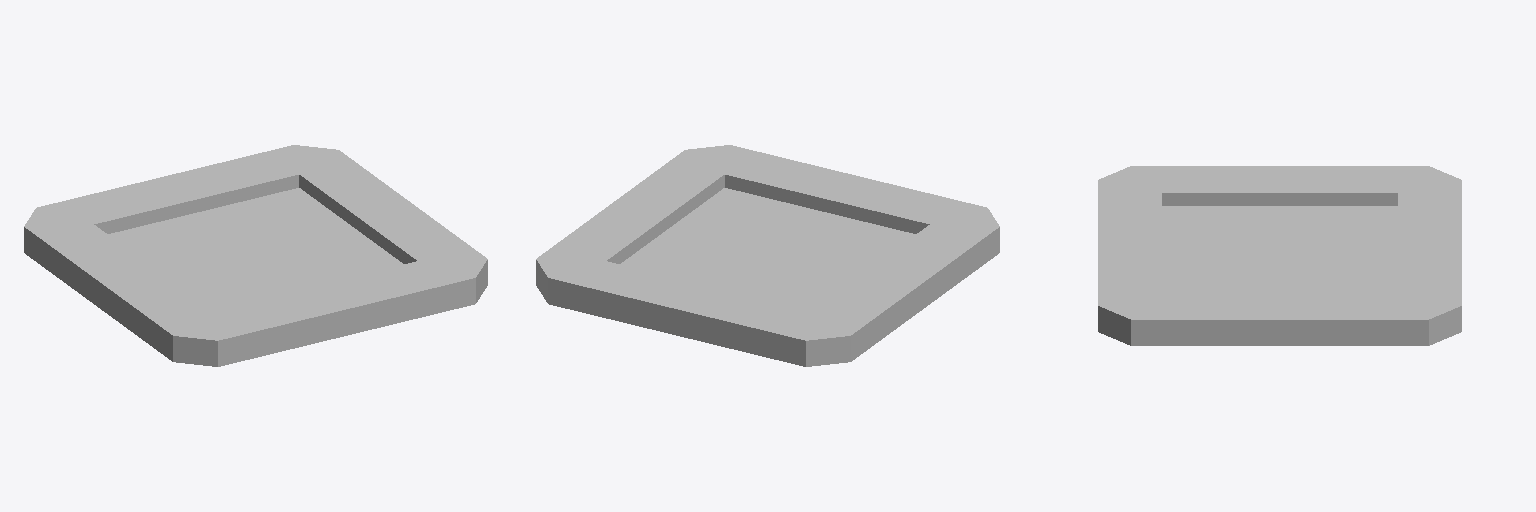
The model's file is metalTile.obj.
The picture shows the model from 3 angles: view 1: azimuth 30°, elevation 25°; view 2: azimuth 150°, elevation 25°; view 3: azimuth 270°, elevation 25°; orthographic projection.
Visible parts, largest first — view 1: metalTile; view 2: metalTile; view 3: metalTile.
Boxes of the visible parts, x1,y1,x2,y2 form: metalTile: [24, 145, 487, 366]; metalTile: [536, 145, 999, 366]; metalTile: [1098, 166, 1461, 345].
Size of the model in its own units: 10 by 0.8 by 10.